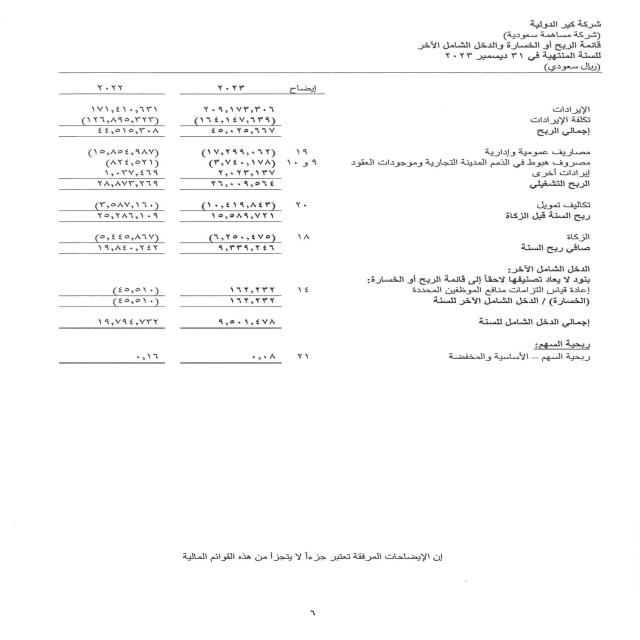financial_sheets: (501, 41, 608, 52)
table: (18, 72, 346, 394)
